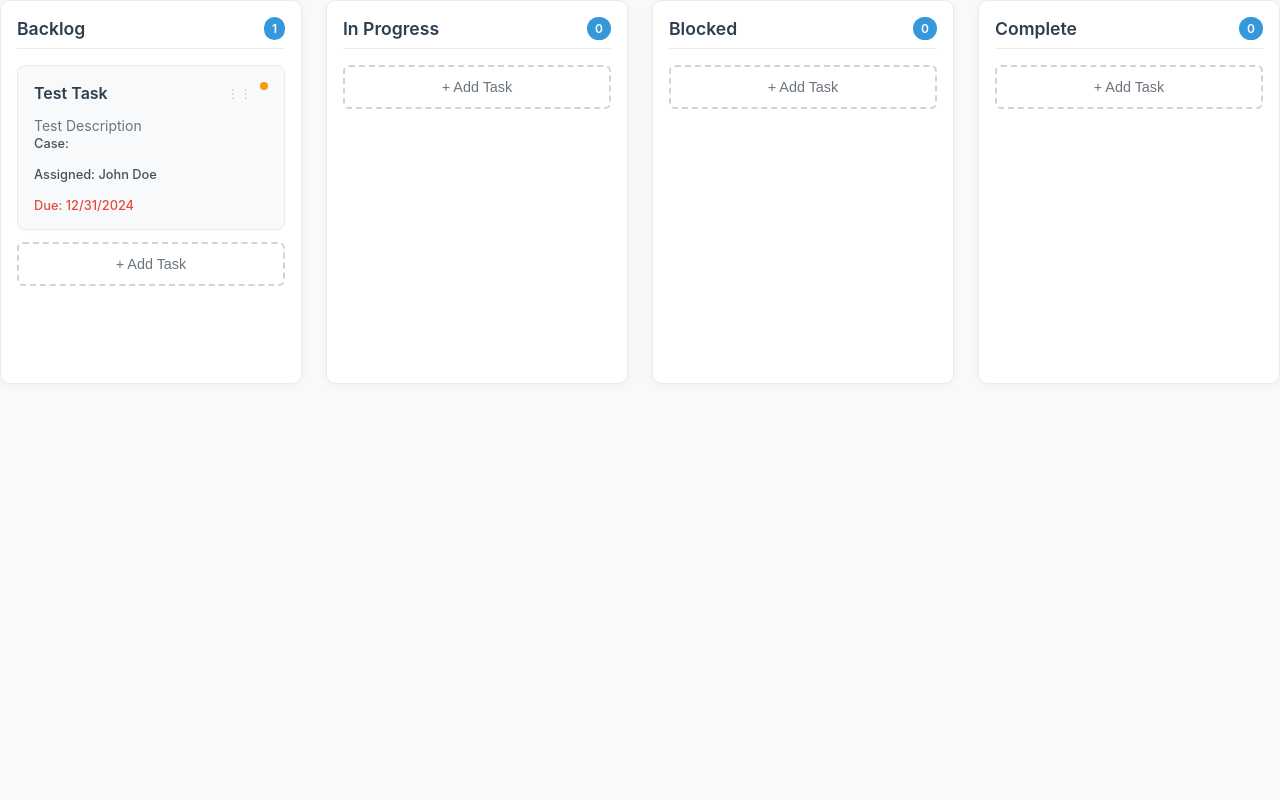
Test: Task Management Workflow Integration › Task Context Integration › creates task from different column contexts
Check: the heading "Test Task" is shown, box [34,83,108,103]
Note: Test creating task from In Progress column
Click the button with class "add-task-button" below "In Progress" at (477, 87), box [343,65,611,109]
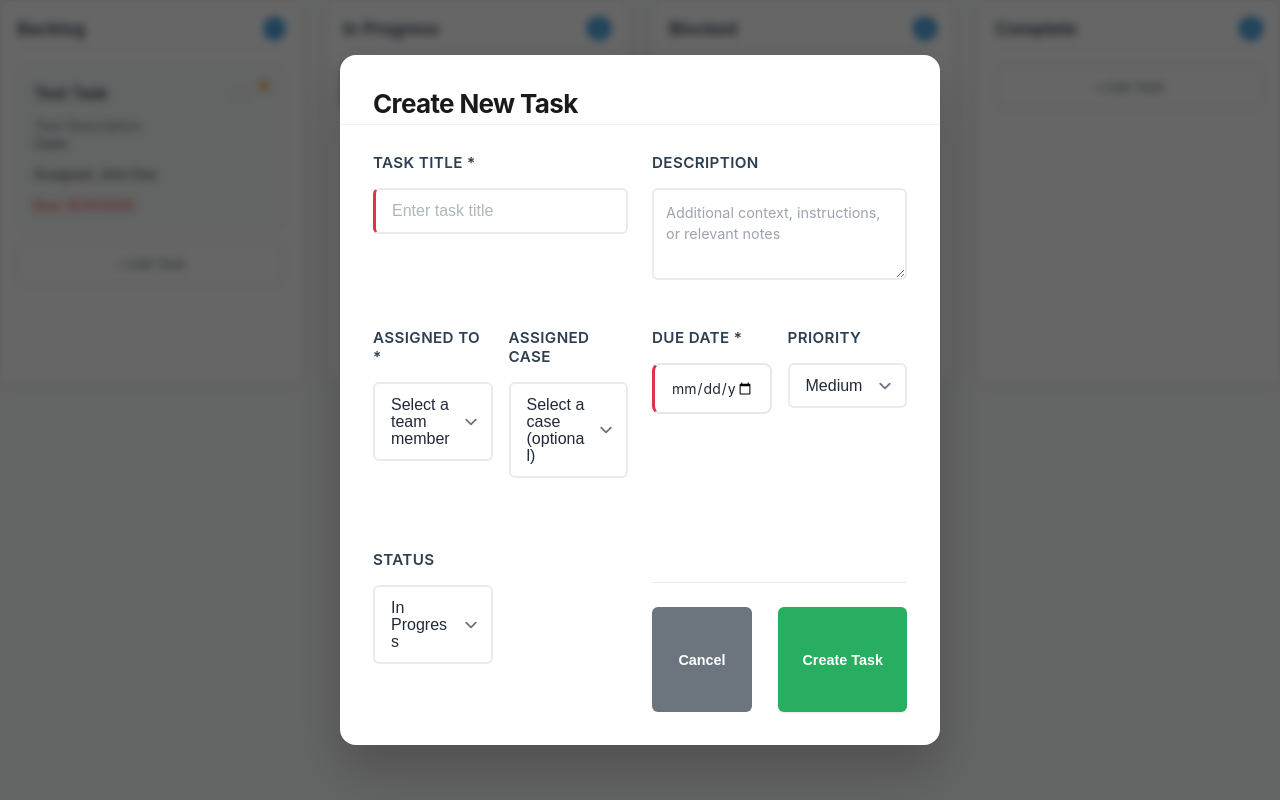
Check: the heading "Create New Task" is shown, box [373,88,578,119]
Check: the dropdown showing "in progress" is shown, box [373,585,492,664]
Note: Close form and test another column
Click the button "Cancel" at (702, 660), box [652,607,752,712]
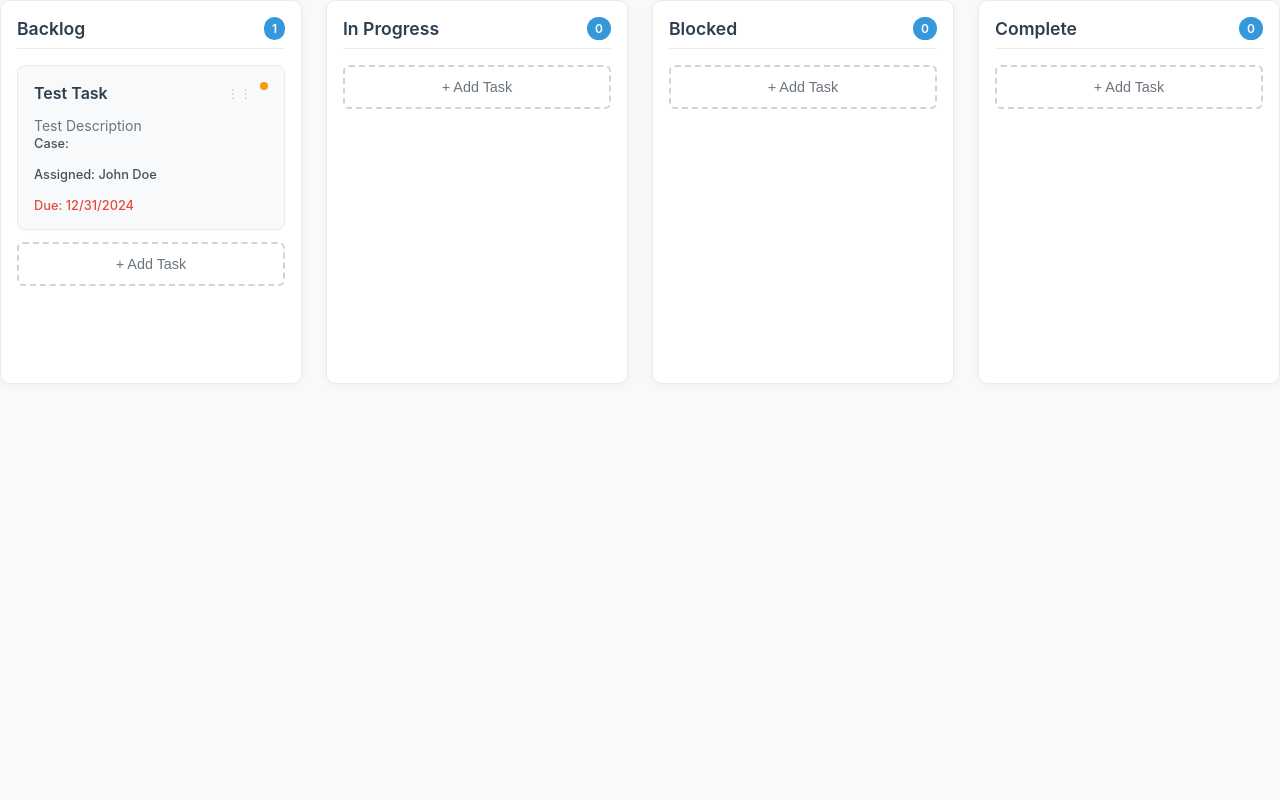
Note: Test creating task from Complete column
Click the button with class "add-task-button" below "Complete" at (1129, 87), box [995,65,1263,109]
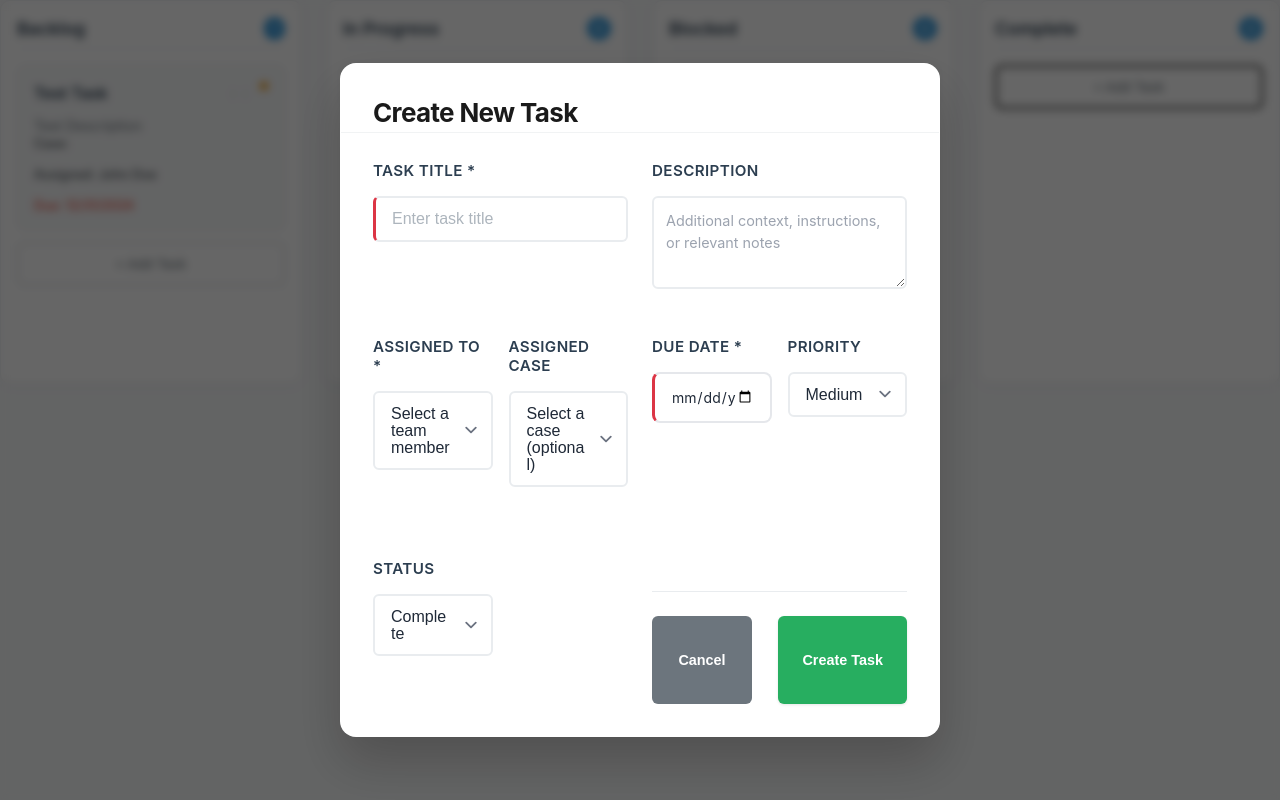
Check: the heading "Create New Task" is shown, box [373,97,578,128]
Check: the dropdown showing "complete" is shown, box [373,594,492,656]
